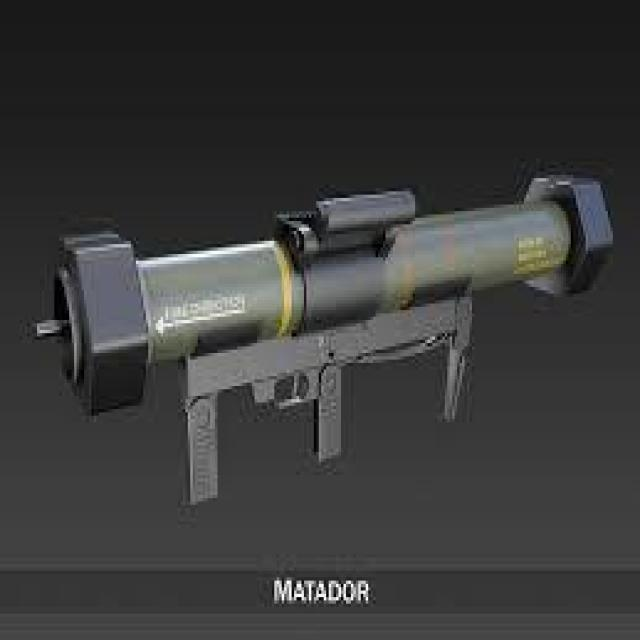bazooka: (28, 144, 623, 520)
